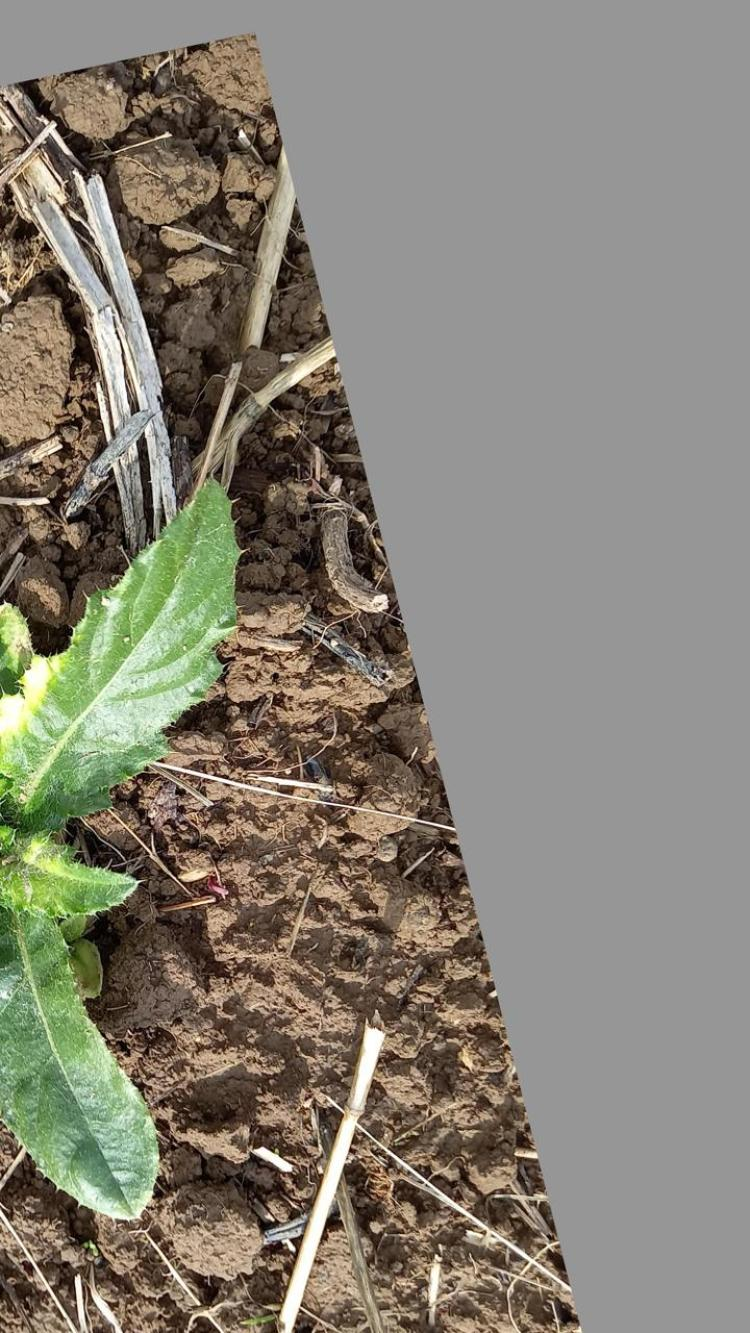bodyak: (0, 466, 244, 1229)
